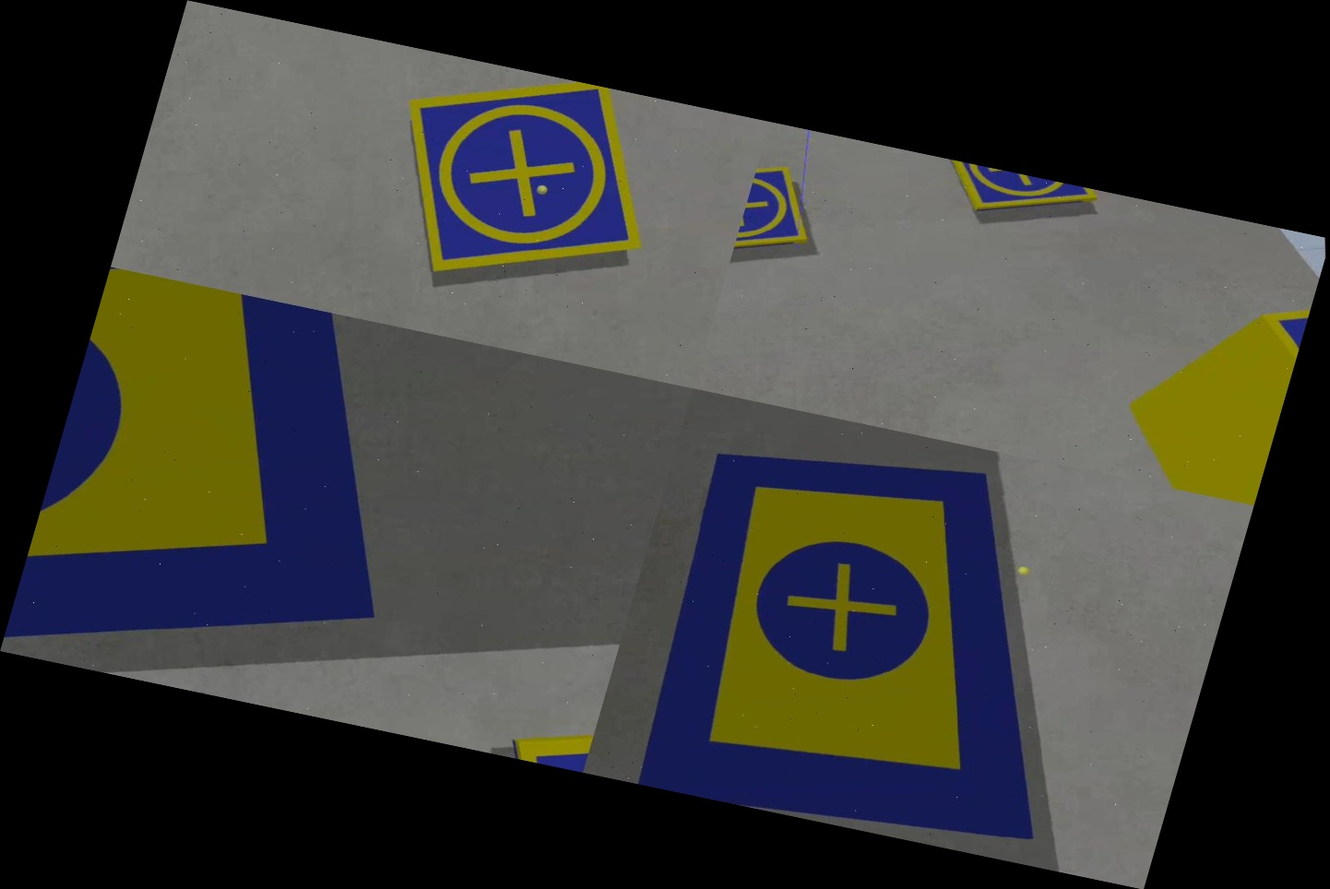large_base: (583, 388, 1139, 865), (0, 267, 467, 725)
small_base: (355, 48, 695, 323), (923, 157, 1102, 243), (729, 156, 834, 280), (505, 675, 606, 772), (1237, 293, 1312, 406)
